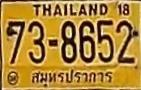2: (116, 20, 137, 64)
3: (27, 19, 44, 62)
5: (96, 19, 113, 62)
6: (78, 20, 94, 62)
7: (7, 20, 24, 63)
8: (61, 20, 76, 62)
SPK: (29, 67, 114, 88)
